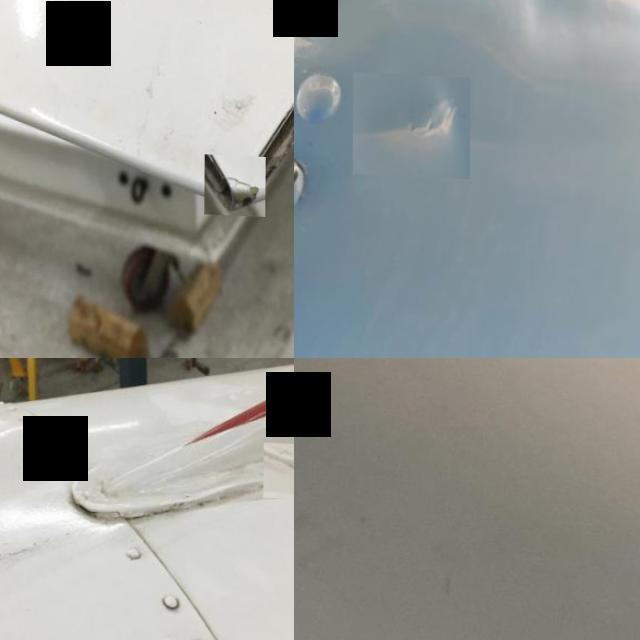Crack: (56, 456, 252, 538), (205, 152, 266, 214), (0, 527, 40, 596), (263, 438, 294, 496)
Dent: (353, 69, 471, 175)
